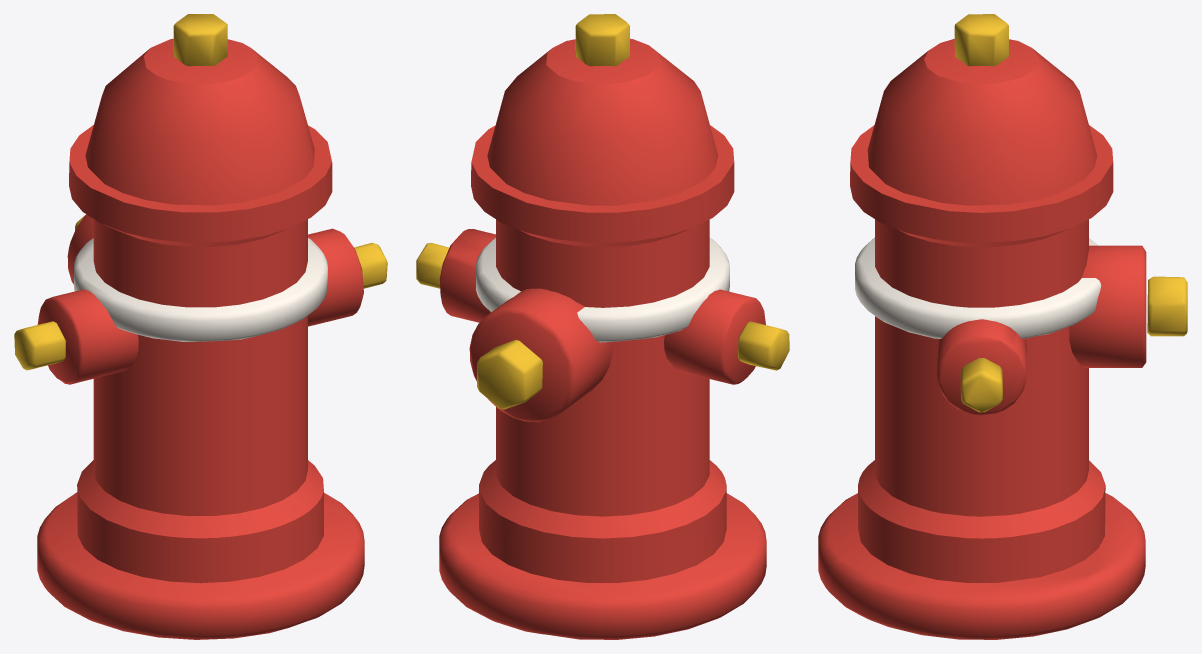
Rendered from hydrant.glb.
The picture shows the model from 3 angles, left to right: view 1: azimuth 30°, elevation 25°; view 2: azimuth 150°, elevation 25°; view 3: azimuth 270°, elevation 25°; orthographic projection.
Visible parts, largest first — view 1: hydrant; view 2: hydrant; view 3: hydrant.
Boxes of the visible parts, x1,y1,x2,y2 form: hydrant: [14, 14, 387, 639]; hydrant: [416, 14, 789, 639]; hydrant: [818, 14, 1187, 639].
Size of the model in its own units: 0.4994 by 0.7395 by 0.4475.
1 material, 1 textured.
